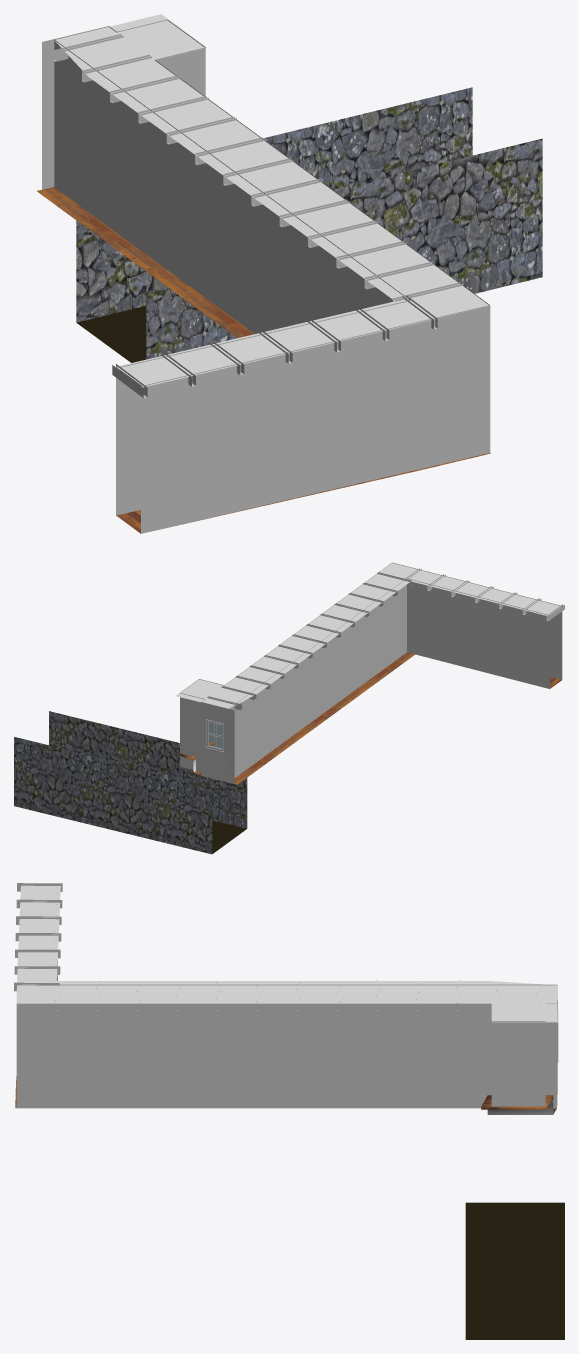
The model's file is abort.fbx.
3 renders of one model, top to bottom at view 1: azimuth 30°, elevation 25°; view 2: azimuth 150°, elevation 25°; view 3: azimuth 270°, elevation 25°, orthographic. The views are drawn at different scales.
Visible parts, largest first — view 1: abort, abort.001, abort.002; view 2: abort, abort.001, abort.002; view 3: abort, abort.001.
Boxes of the visible parts, x1=… form: abort: x1=37, y1=14, x2=542, y2=533; abort.001: x1=54, y1=39, x2=409, y2=333; abort.002: x1=116, y1=300, x2=410, y2=515; abort: x1=14, y1=562, x2=564, y2=854; abort.001: x1=229, y1=578, x2=406, y2=777; abort.002: x1=407, y1=578, x2=549, y2=688; abort: x1=14, y1=883, x2=564, y2=1339; abort.001: x1=60, y1=984, x2=556, y2=985.
Size of the model in its own units: 911 by 359 by 857.
